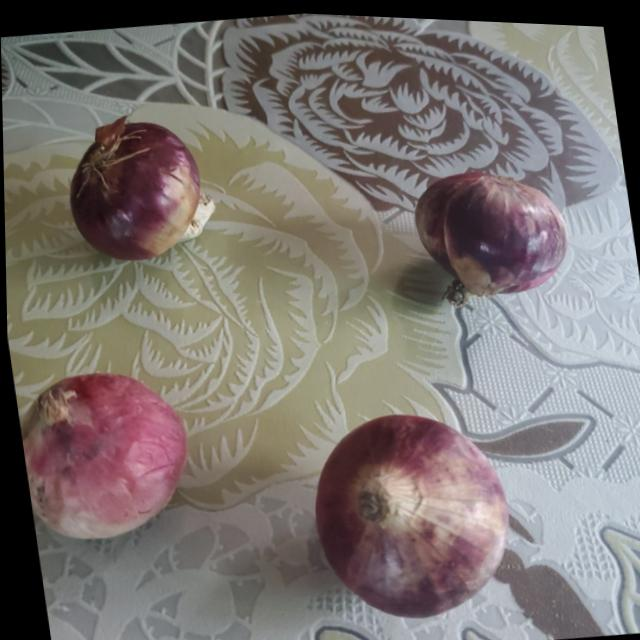onion: (304, 392, 526, 621), (11, 361, 191, 549), (413, 155, 577, 303), (59, 106, 210, 265)
